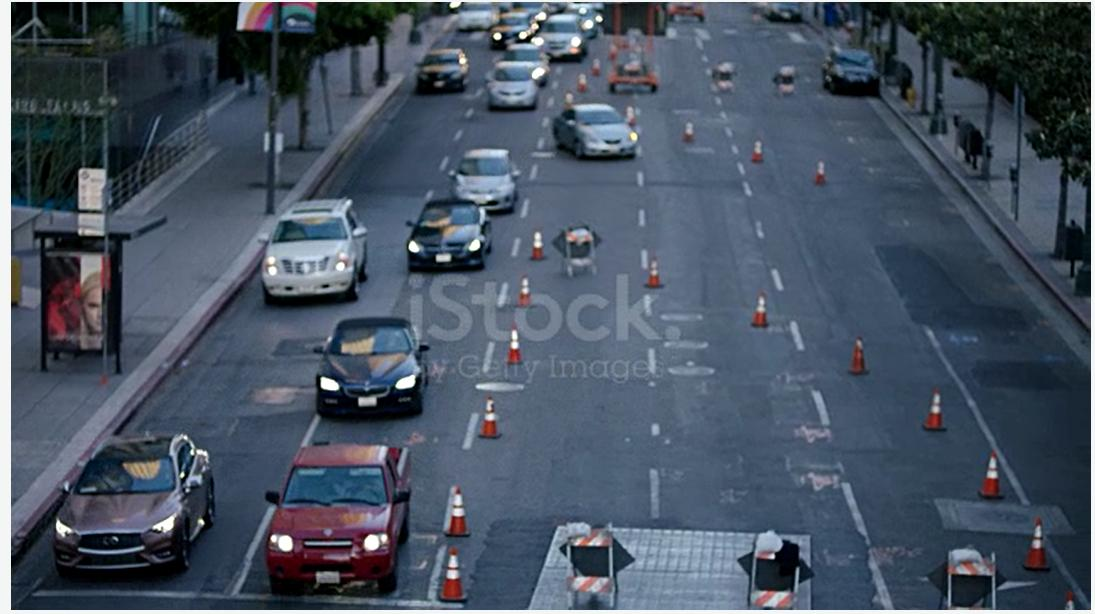car: (38, 411, 217, 591), (263, 437, 412, 593), (248, 184, 381, 319), (291, 311, 445, 426), (540, 95, 660, 177), (399, 190, 493, 277), (443, 143, 514, 213), (815, 45, 881, 97), (413, 45, 471, 104), (489, 57, 536, 116)
